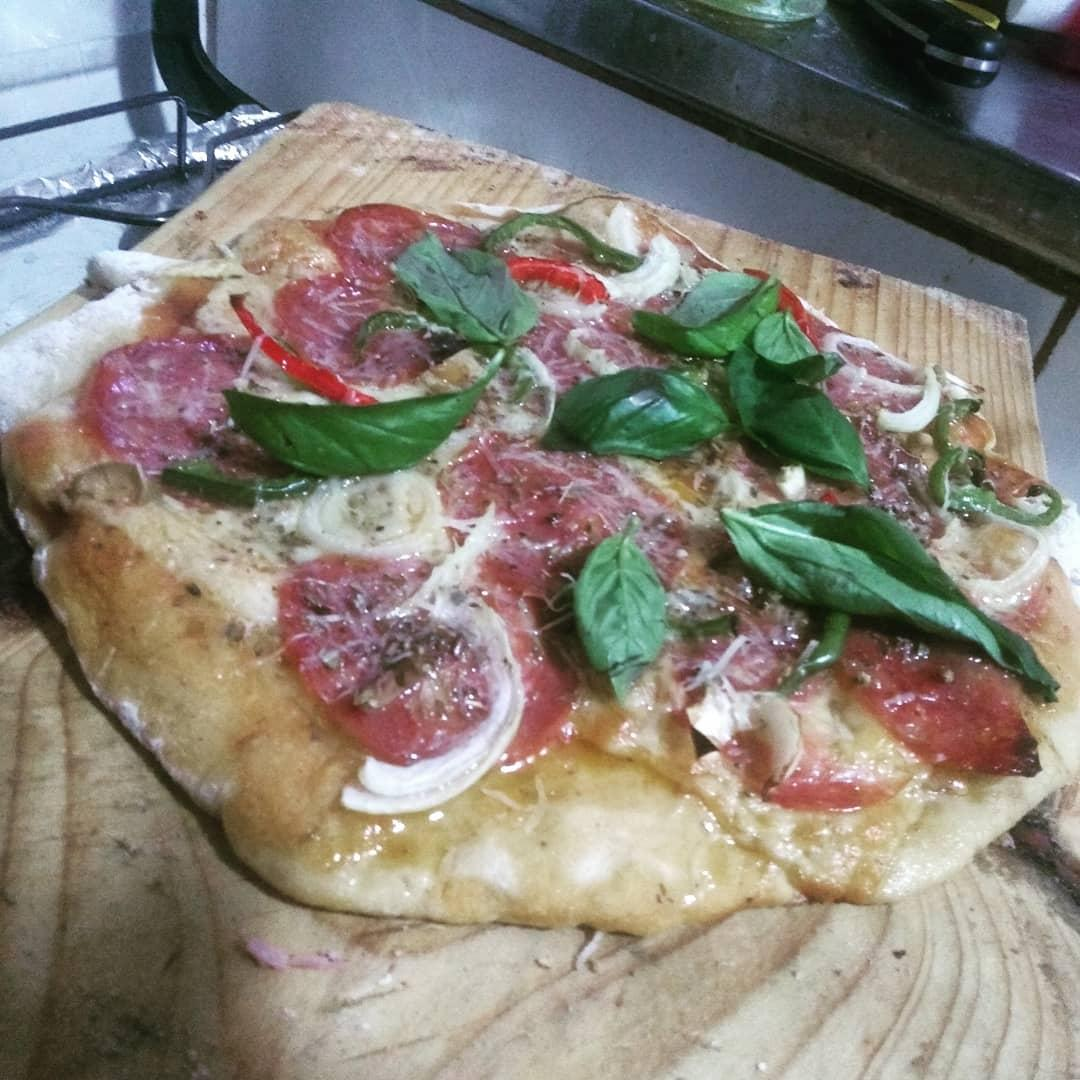Basil: (714, 487, 1054, 701), (214, 374, 518, 476), (707, 358, 878, 494), (561, 516, 691, 688), (654, 263, 824, 394), (401, 241, 536, 354), (551, 371, 712, 458)
Onion: (374, 581, 521, 803), (273, 469, 462, 557), (929, 489, 1050, 602), (554, 214, 678, 305), (838, 331, 940, 436)
Pepperoni: (278, 548, 552, 774), (738, 589, 1014, 788), (244, 254, 469, 425), (740, 365, 941, 534), (458, 421, 669, 572), (74, 321, 283, 472), (334, 201, 496, 304), (514, 304, 687, 394)
Peppers: (237, 305, 385, 420), (501, 253, 608, 310)
Pizza: (8, 194, 1080, 921)
